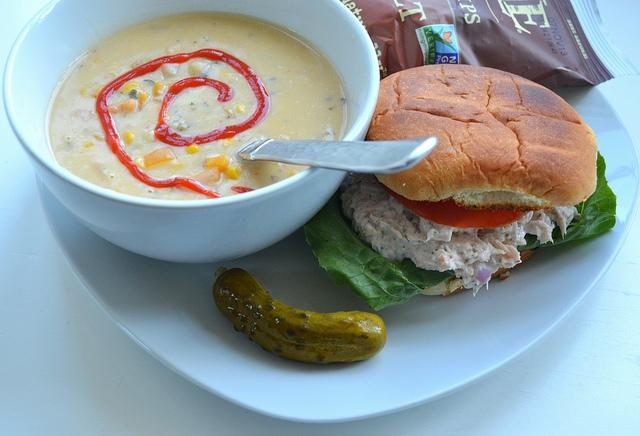corn: (202, 155, 230, 173), (188, 59, 210, 76), (226, 165, 242, 181), (137, 92, 149, 110), (124, 82, 143, 93), (120, 99, 136, 112), (220, 106, 236, 118), (122, 132, 134, 146), (152, 83, 164, 97), (92, 86, 105, 98), (222, 137, 236, 148), (186, 144, 200, 154), (236, 105, 246, 113), (85, 142, 95, 149), (80, 88, 87, 96), (220, 70, 228, 76), (290, 171, 296, 176)
lettuce: (303, 189, 455, 312), (518, 150, 617, 252)
tomato: (372, 174, 530, 230)
